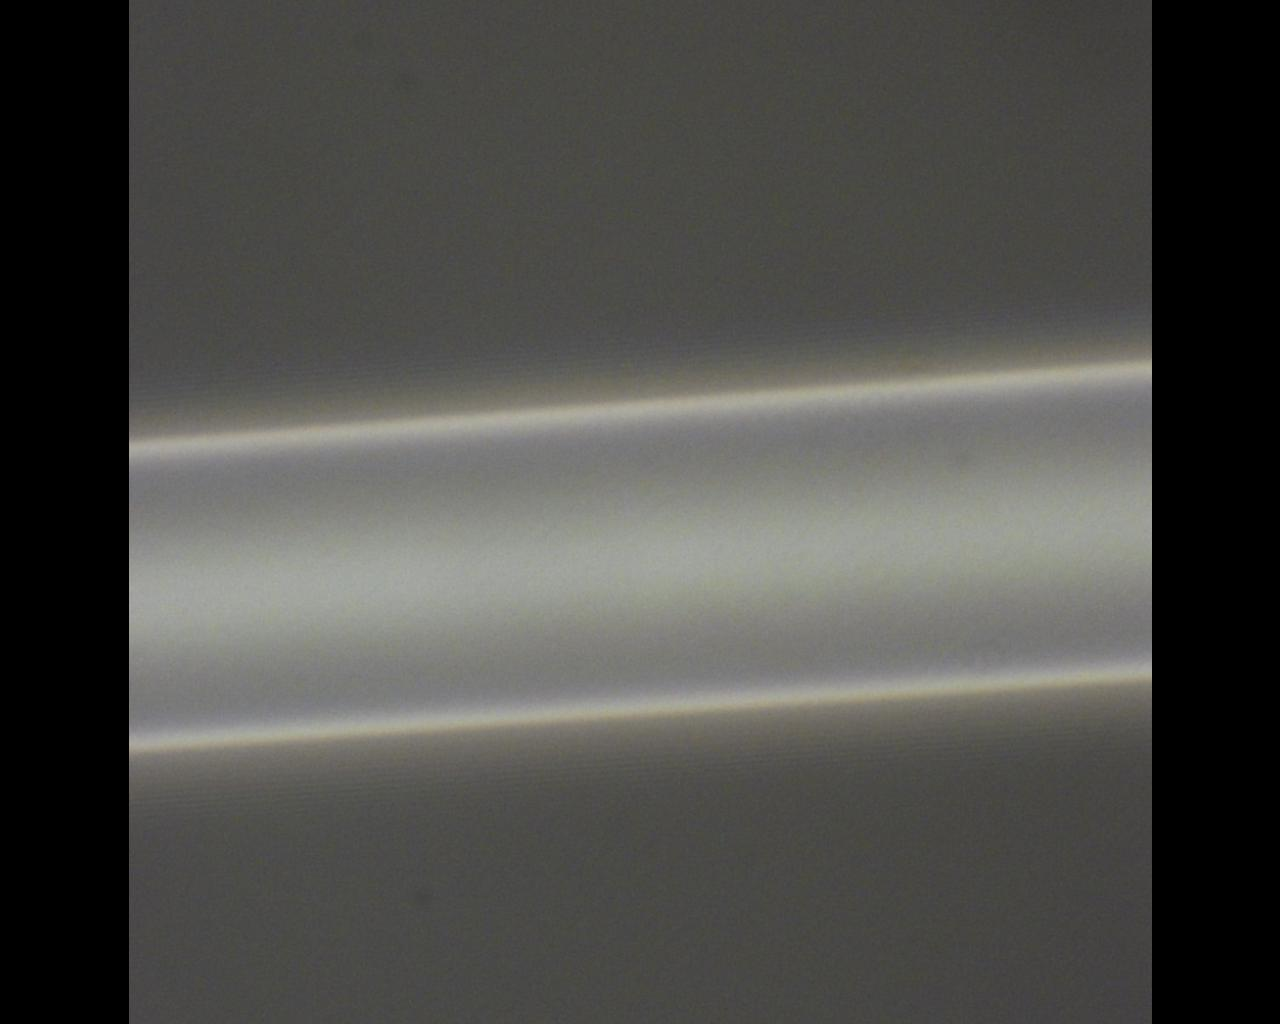fiber: (730, 0, 984, 1024)
